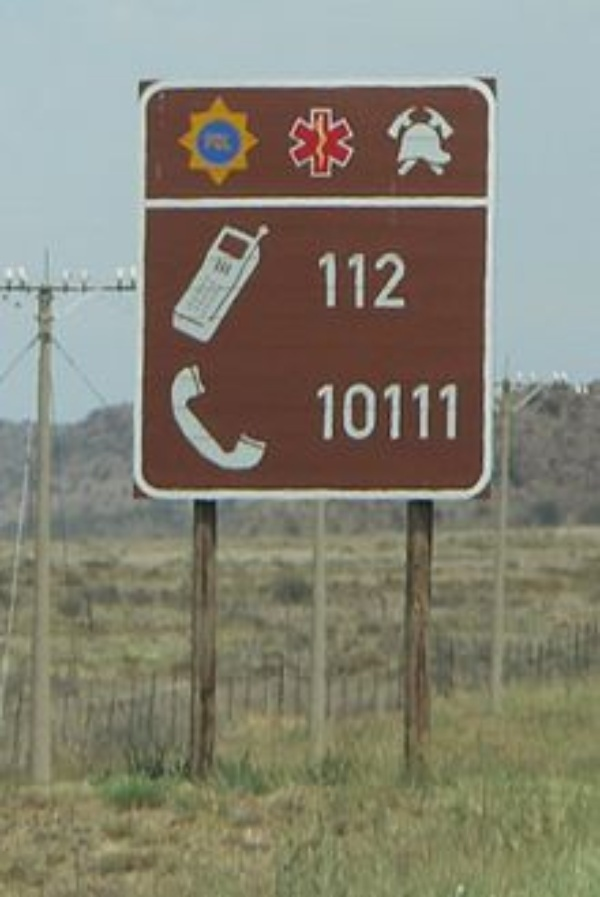text: (321, 377, 336, 445), (337, 377, 352, 445), (353, 377, 368, 445), (369, 377, 384, 445), (385, 377, 400, 445), (401, 377, 416, 445), (417, 377, 432, 445), (433, 377, 448, 445), (449, 377, 464, 445), (321, 246, 336, 311), (337, 246, 352, 311), (353, 246, 368, 311), (369, 246, 384, 311), (385, 246, 400, 311), (401, 246, 410, 311), (314, 377, 320, 445), (314, 246, 320, 311)
